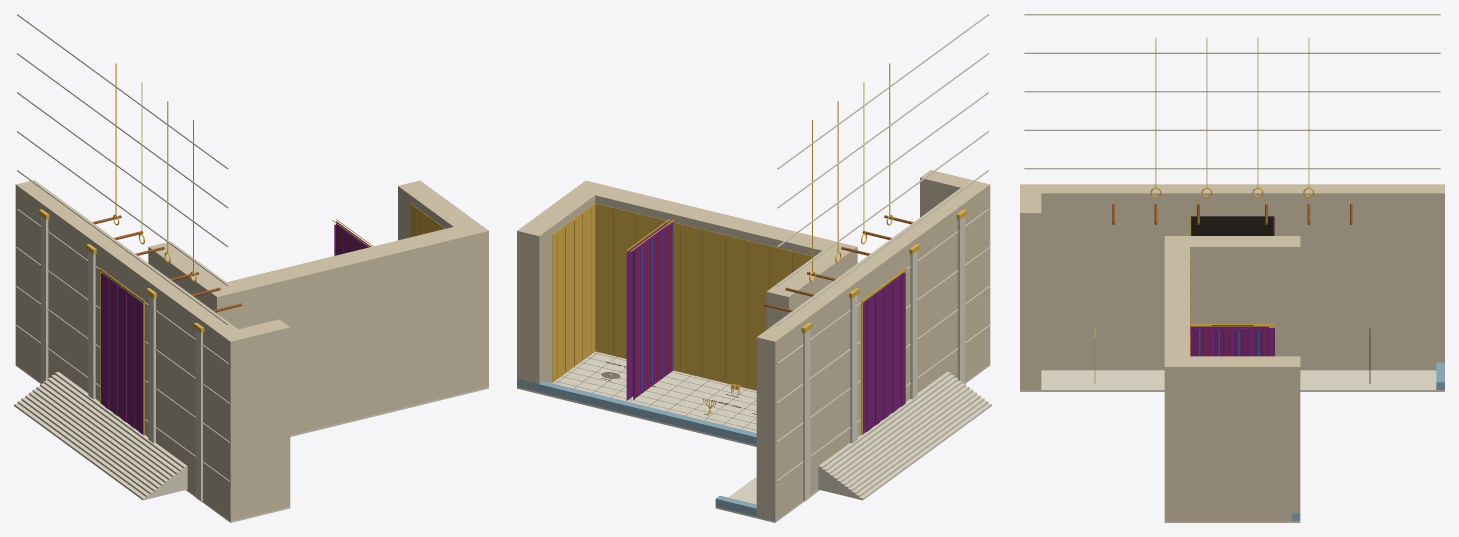
File: temple_middot_interior.glb
The picture shows the model from 3 angles, left to right: view 1: azimuth 30°, elevation 25°; view 2: azimuth 150°, elevation 25°; view 3: azimuth 270°, elevation 25°; orthographic projection.
Parts seen in each view (by area): view 1: הכותל הצפוני, חזית האולם בחתך – דרום, חזית האולם בחתך – צפון, כותל האולם הצפוני, הכותל המערבי, חזית האולם בחתך – משקוף, אומנת חזית האולם, אומנת חזית האולם.003, אומנת חזית האולם.001, אומנת חזית האולם.002, מעלת האולם בחתך 01, מעלת האולם בחתך 02 (+27 smaller); view 2: חיפוי זהב צפוני, חזית האולם בחתך – צפון, חזית האולם בחתך – דרום, רצפת ההיכל, הכותל המערבי, חיפוי זהב מערבי, הפרוכת החיצונית – פתח דרומי, הכותל הצפוני, הכותל הדרומי – חתך, חזית האולם בחתך – משקוף, כותל האולם הצפוני, פתח ההיכל – צפון (+32 smaller); view 3: חזית האולם בחתך – צפון, חזית האולם בחתך – דרום, הכותל המערבי, רצפת האולם, פתח ההיכל – צפון, הכותל הצפוני, כותל האולם הצפוני, פתח ההיכל – משקוף, חזית האולם בחתך – משקוף, הפרוכת הפנימית – פתח צפוני, פתח ההיכל – דרום, חזית האולם בחתך – פתח כהה (+5 smaller).
Part boxes in pixels (<box>): הכותל הצפוני: <box>204,227,488,434</box>; חזית האולם בחתך – דרום: <box>144,274,249,520</box>; חזית האולם בחתך – צפון: <box>15,180,119,401</box>; כותל האולם הצפוני: <box>220,319,290,520</box>; הכותל המערבי: <box>398,180,488,391</box>; חזית האולם בחתך – משקוף: <box>101,243,162,299</box>; אומנת חזית האולם: <box>195,330,202,501</box>; אומנת חזית האולם.003: <box>41,216,48,383</box>; אומנת חזית האולם.001: <box>148,295,155,443</box>; אומנת חזית האולם.002: <box>88,251,95,399</box>; מעלת האולם בחתך 01: <box>14,403,187,500</box>; מעלת האולם בחתך 02: <box>17,400,187,497</box>; חיפוי זהב צפוני: <box>595,203,813,390</box>; חזית האולם בחתך – צפון: <box>756,274,861,520</box>; חזית האולם בחתך – דרום: <box>886,181,990,401</box>; רצפת ההיכל: <box>517,351,756,446</box>; הכותל המערבי: <box>517,180,607,391</box>; חיפוי זהב מערבי: <box>552,203,595,382</box>; הפרוכת החיצונית – פתח דרומי: <box>633,222,673,398</box>; הכותל הצפוני: <box>584,181,857,263</box>; הכותל הדרומי – חתך: <box>517,379,756,444</box>; חזית האולם בחתך – משקוף: <box>843,243,904,299</box>; כותל האולם הצפוני: <box>920,170,990,365</box>; פתח ההיכל – צפון: <box>766,274,812,329</box>; חזית האולם בחתך – צפון: <box>1275,184,1444,370</box>; חזית האולם בחתך – דרום: <box>1020,184,1189,370</box>; הכותל המערבי: <box>1164,356,1300,520</box>; רצפת האולם: <box>1020,370,1444,391</box>; פתח ההיכל – צפון: <box>1253,236,1300,356</box>; הכותל הצפוני: <box>1164,236,1189,520</box>; כותל האולם הצפוני: <box>1020,184,1041,389</box>; פתח ההיכל – משקוף: <box>1211,236,1253,323</box>; חזית האולם בחתך – משקוף: <box>1190,184,1274,216</box>; הפרוכת הפנימית – פתח צפוני: <box>1196,328,1274,356</box>; פתח ההיכל – דרום: <box>1165,236,1211,325</box>; חזית האולם בחתך – פתח כהה: <box>1191,216,1273,325</box>.
Size of the model in its own units: 50.5 by 45.37 by 50.
